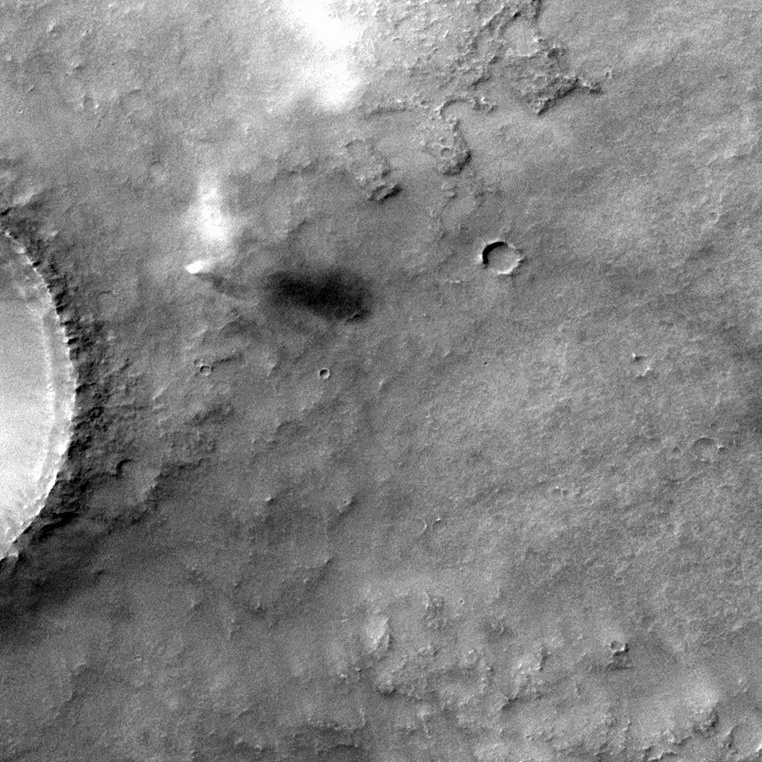dust_devil: (180, 186, 377, 325)
